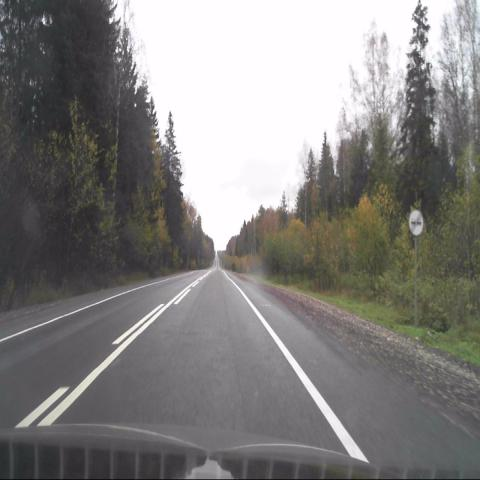3_21: (409, 210, 423, 235)
